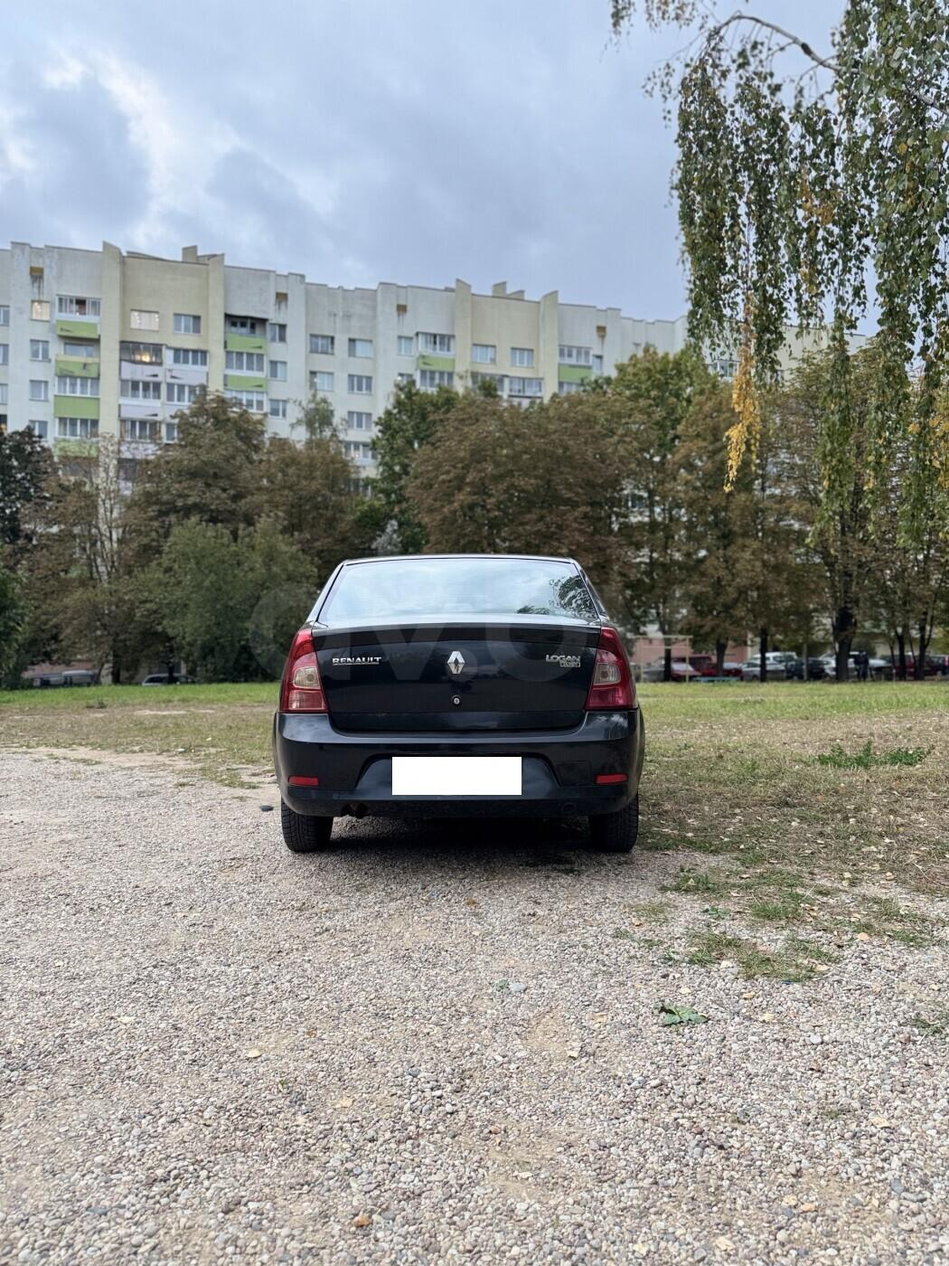Logan_2008-2015: (271, 552, 651, 866)
